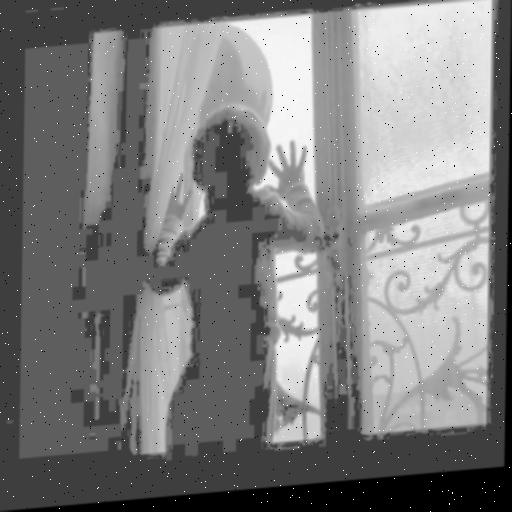balloon: (197, 19, 273, 135)
